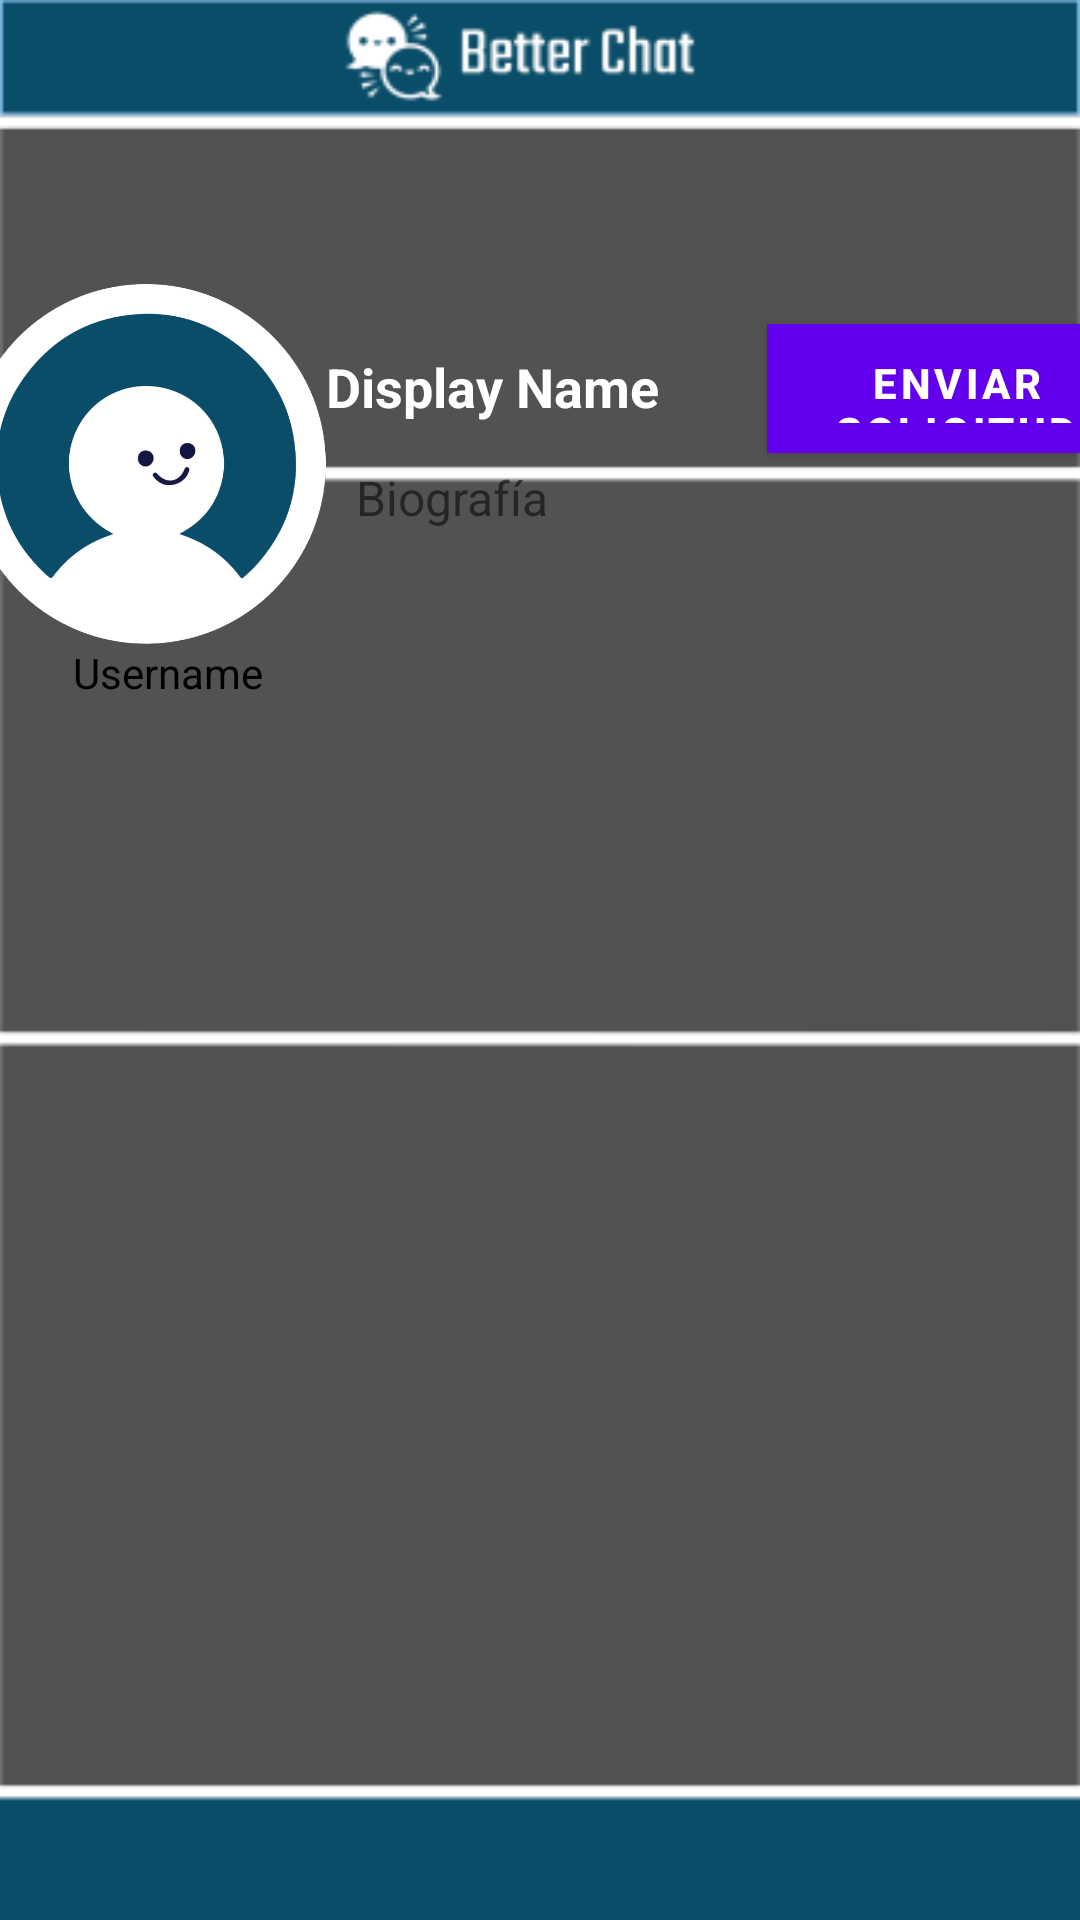

Icon click points for this 1080*1920 phone screenshot, format (x,y):
profile: (163,464)
